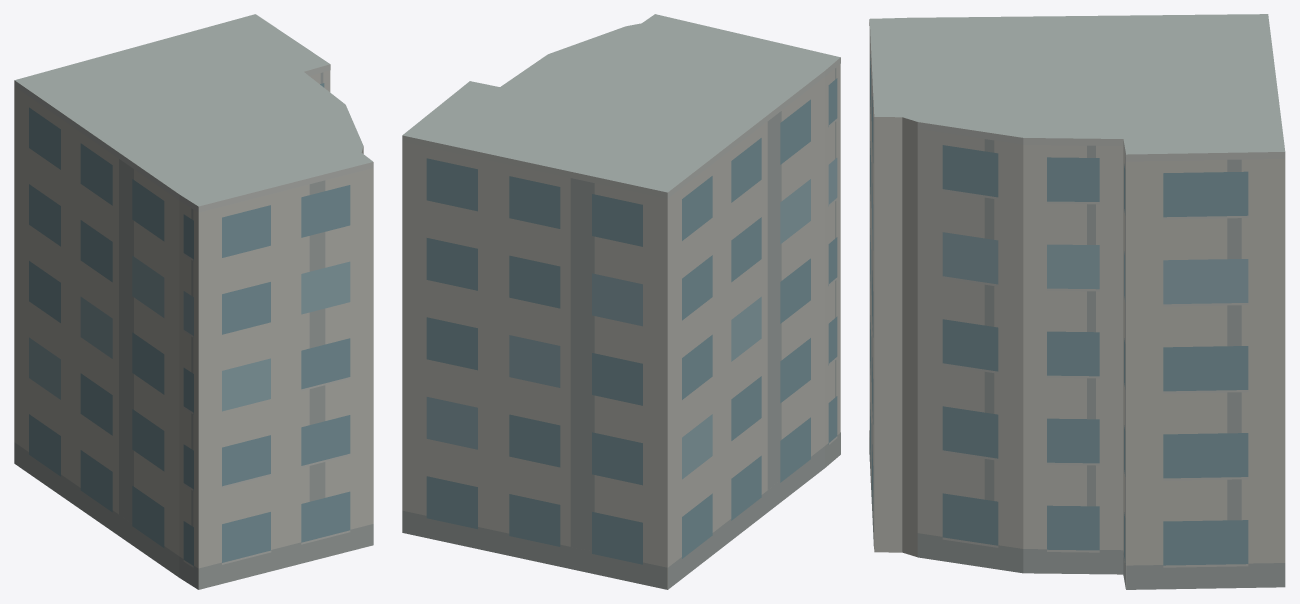
The model's file is survey-upis-32515091.glb.
3 renders of one model, left to right at view 1: azimuth 30°, elevation 25°; view 2: azimuth 150°, elevation 25°; view 3: azimuth 270°, elevation 25°, orthographic. The views are drawn at different scales.
Parts seen in each view (by area): view 1: survey-upis-32515091.tmp; view 2: survey-upis-32515091.tmp; view 3: survey-upis-32515091.tmp.
Boxes of the visible parts, <box> form: survey-upis-32515091.tmp: <box>14,14,373,589</box>; survey-upis-32515091.tmp: <box>402,14,840,589</box>; survey-upis-32515091.tmp: <box>869,14,1285,589</box>.
Bounding box in the file's own units: 10.56 × 15.25 × 13.21.
